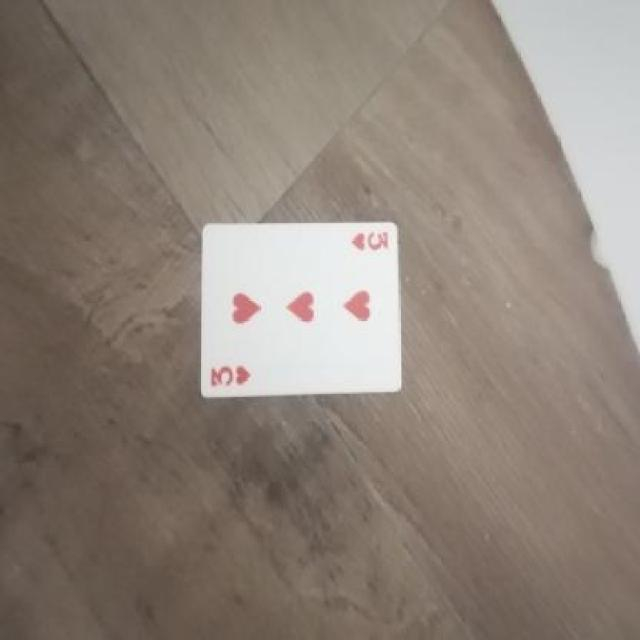3H: (195, 364, 263, 391), (346, 224, 397, 258)
